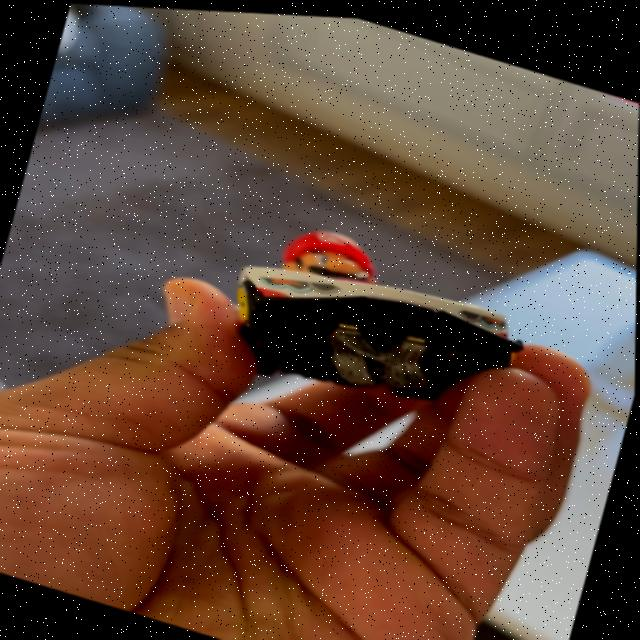mario: (185, 186, 556, 448)
